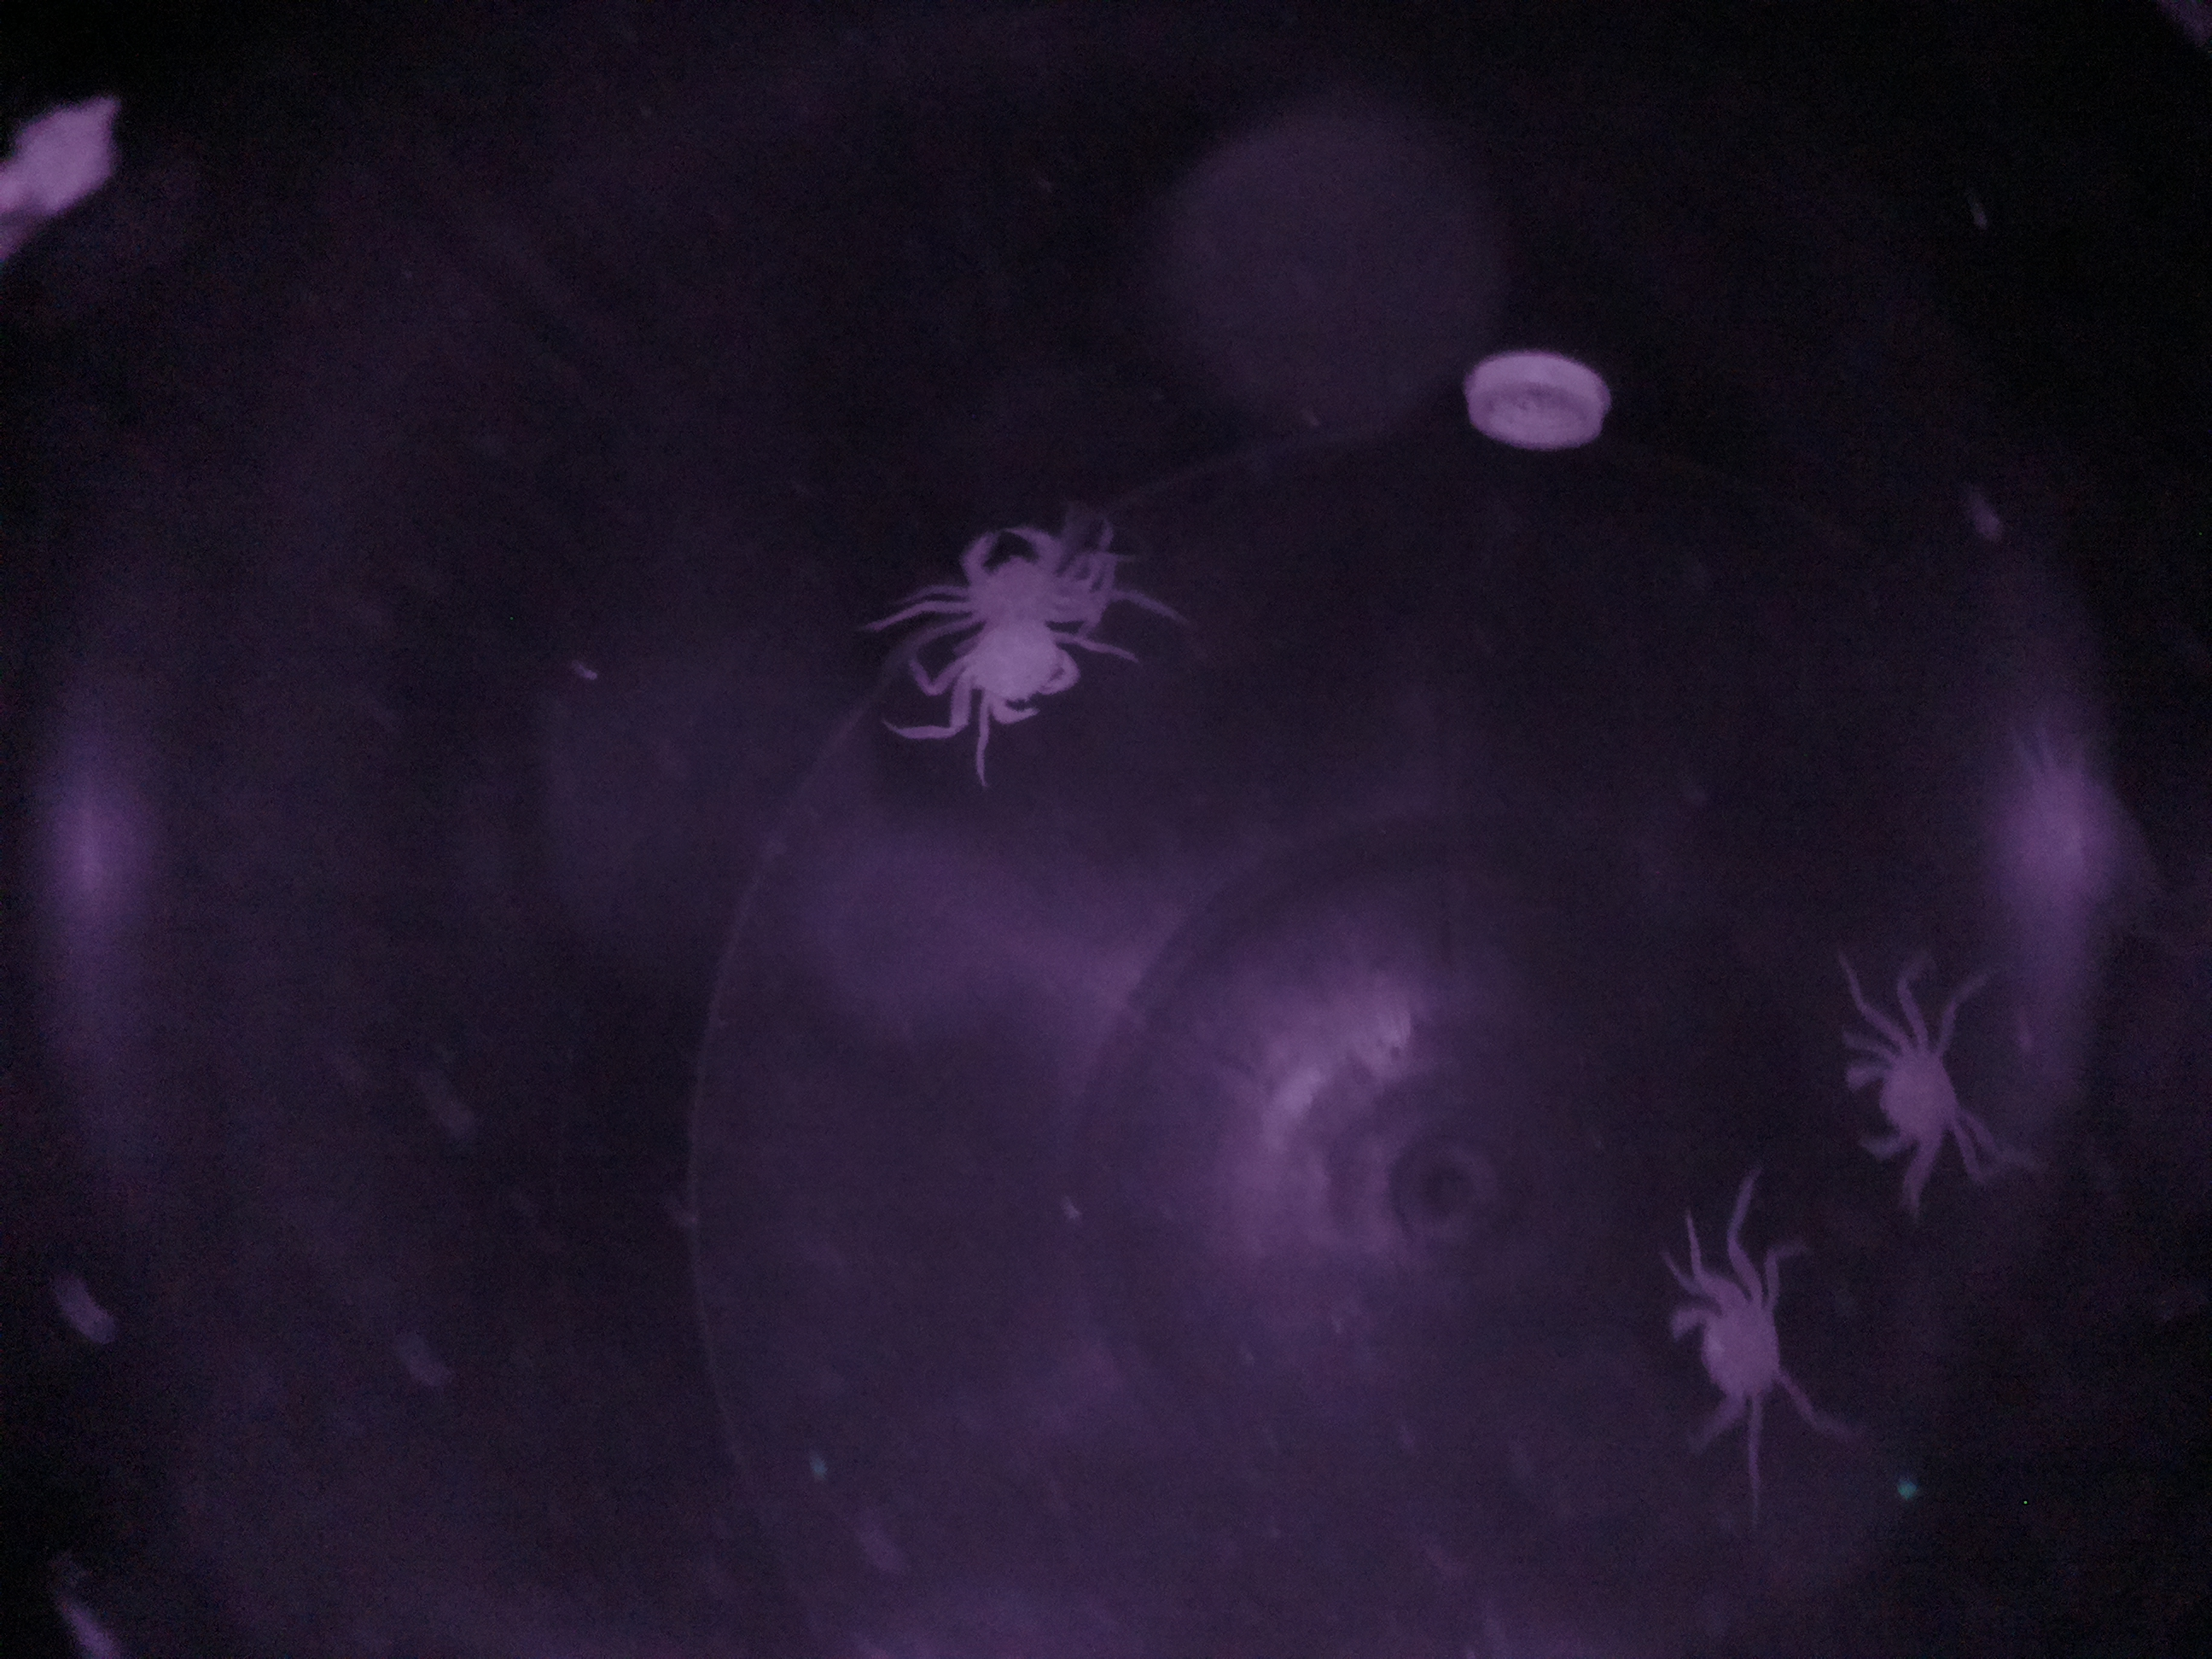Crab: (1829, 999, 2010, 1209), (1669, 1243, 1827, 1474)
